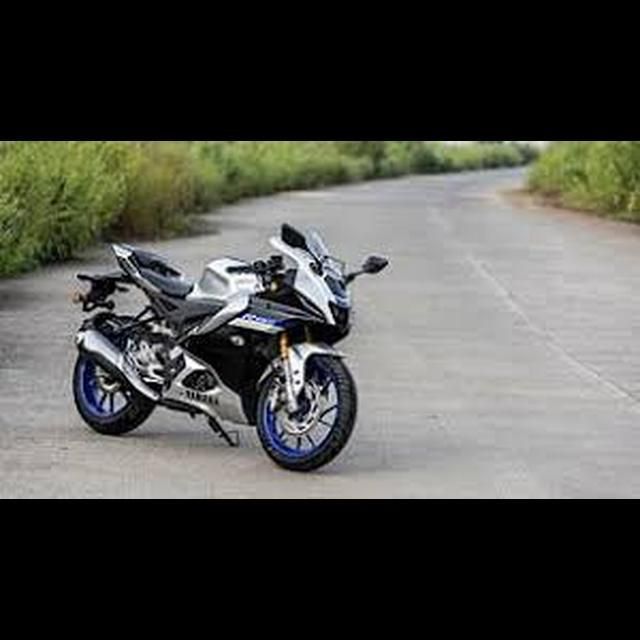motorcycle: (69, 213, 394, 475)
